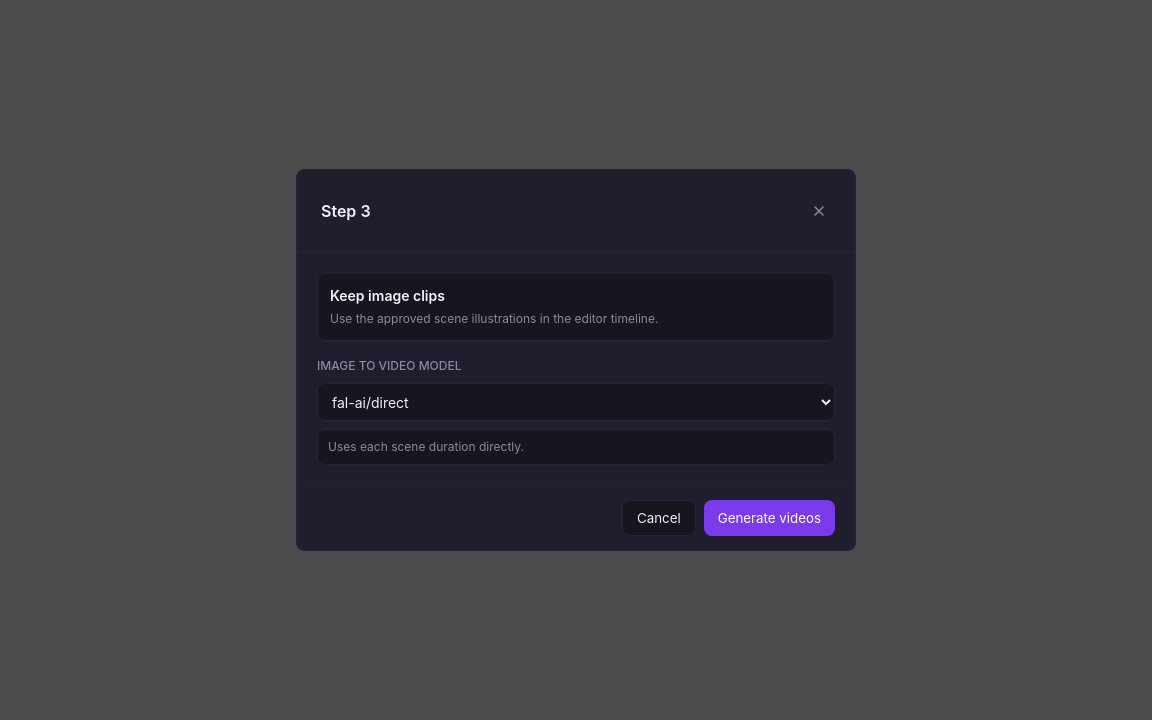
Test: Step3GenerationModal › describes direct duration and frame-count duration behavior
Check: the text with test id "step3-duration-behavior" reads "Uses each scene duration directly.", box [328,439,524,454]
Select "fal-ai/ltx-2-19b/image-to-video" in the dropdown with test id "step3-video-model-select" at (576, 402), box [317,383,835,421]
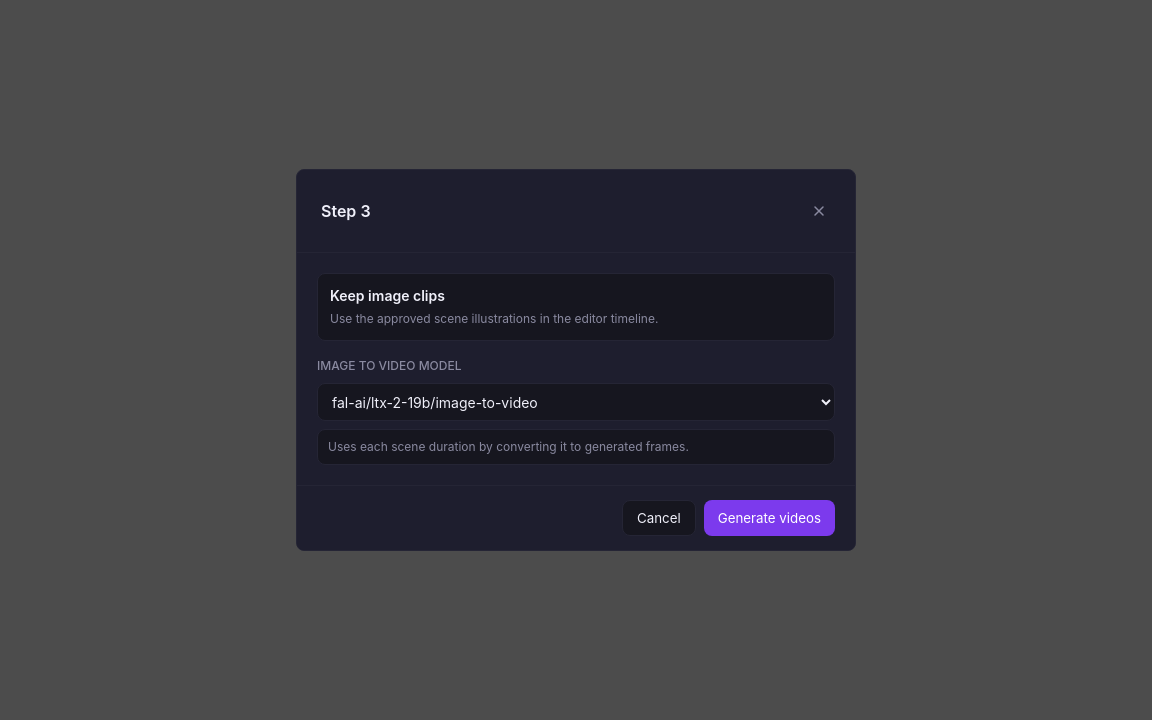
Check: the text with test id "step3-duration-behavior" reads "Uses each scene duration by converting it to generated frames.", box [328,439,689,454]
